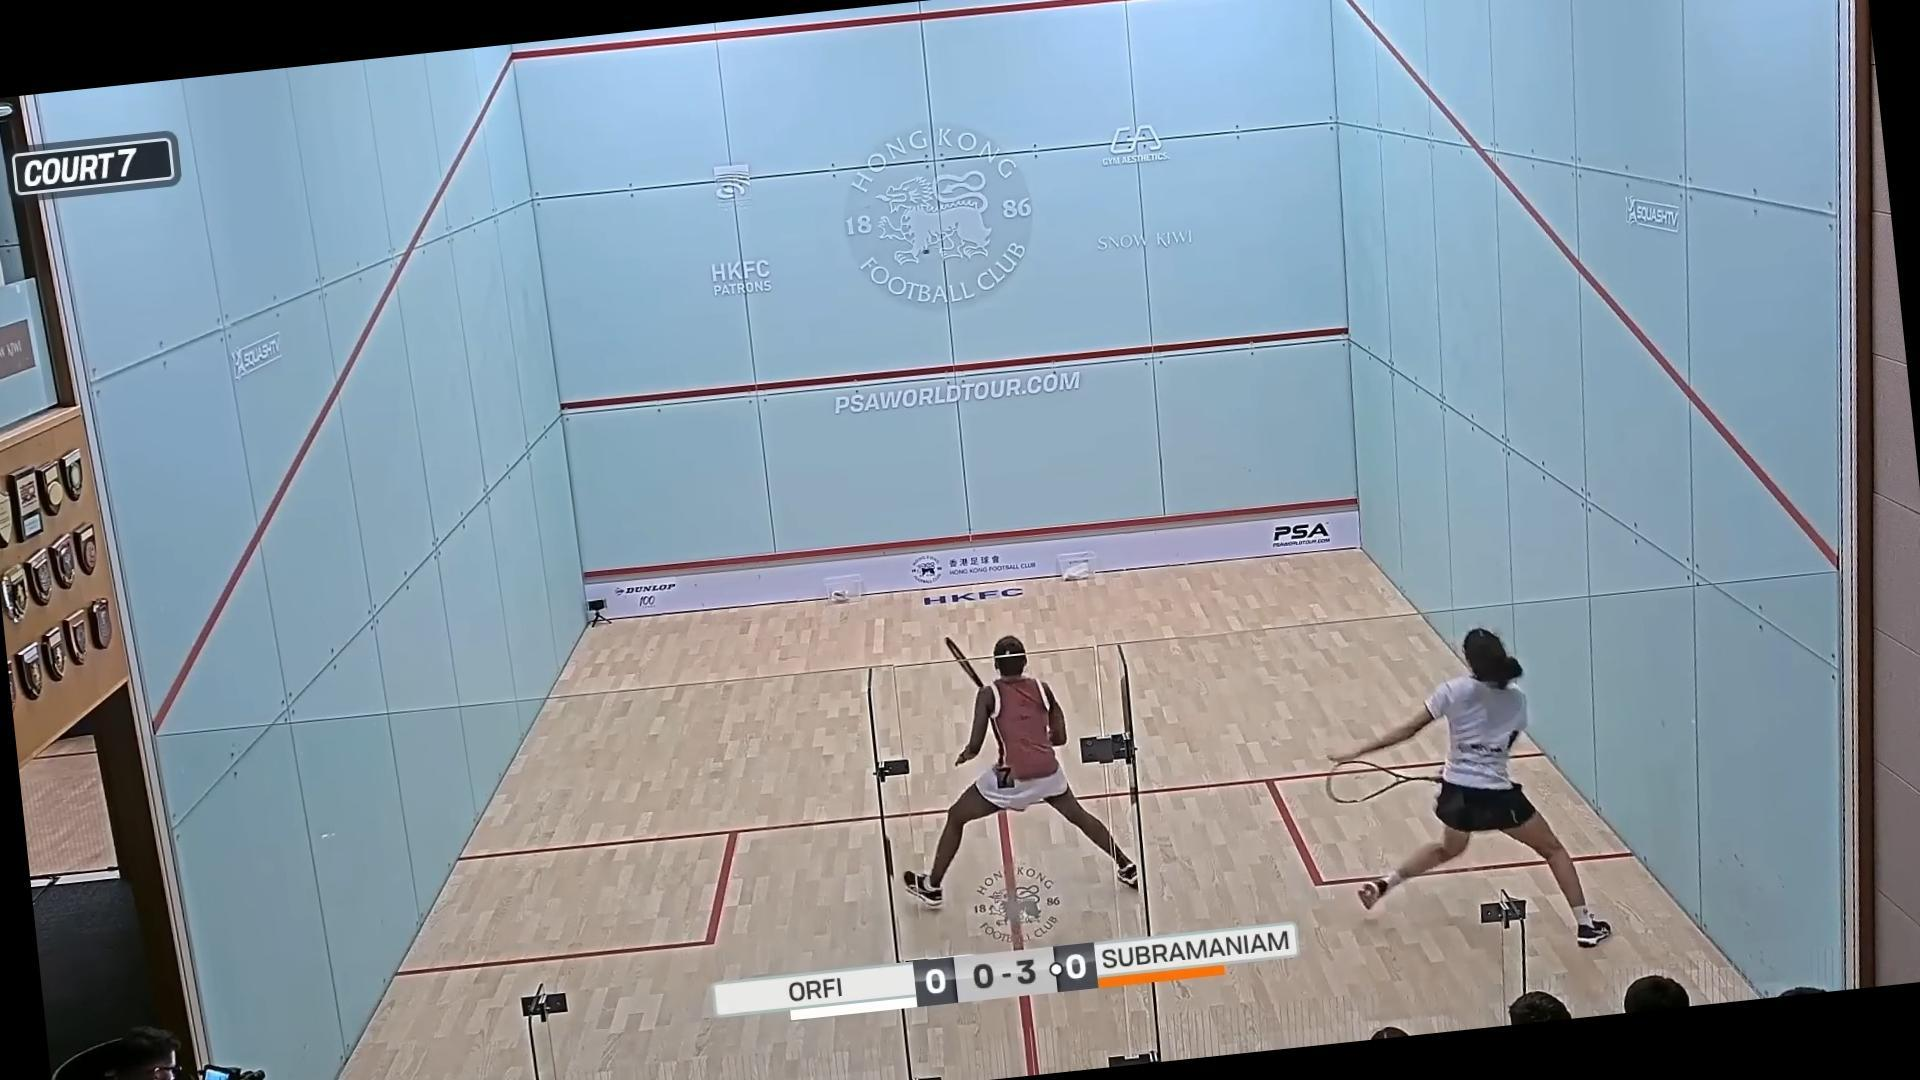Squash-Ball: (914, 239, 942, 261)
